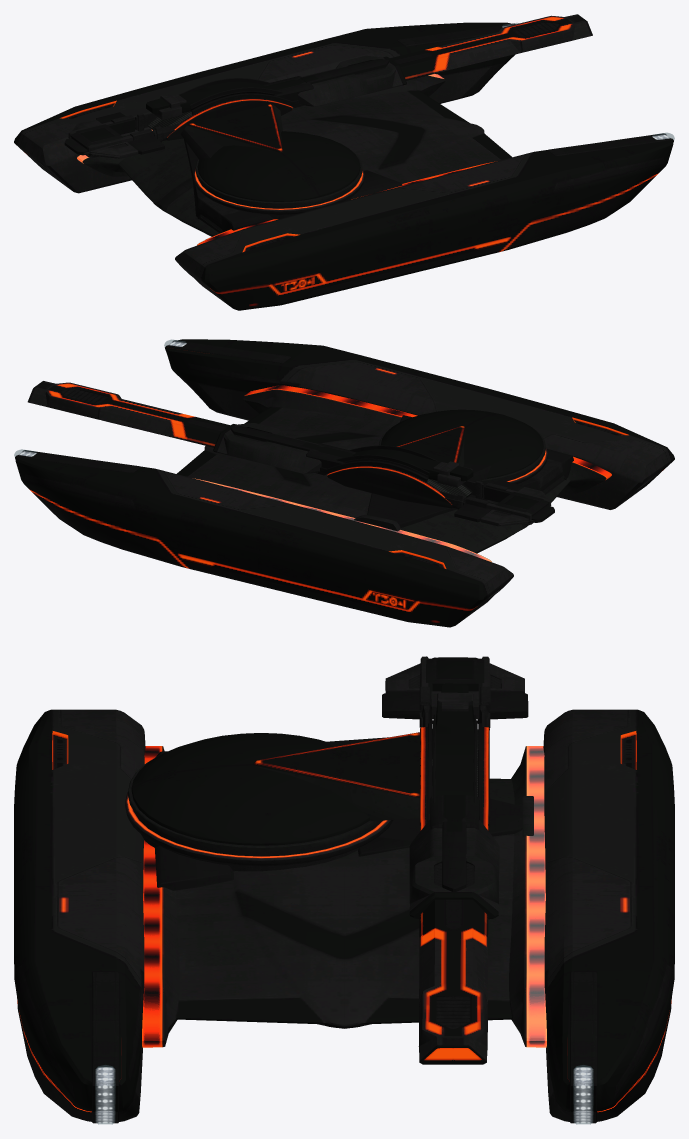
3 views of the same model, one above another, from view 1: azimuth 30°, elevation 25°; view 2: azimuth 150°, elevation 25°; view 3: azimuth 270°, elevation 25° (orthographic). The views are drawn at different scales.
Parts seen in each view (by area): view 1: Main Body, Turret Mount, Turret; view 2: Main Body, Turret Mount, Turret; view 3: Main Body, Turret Mount, Turret.
Part boxes in pixels (x1=…): Main Body: x1=14, y1=22, x2=674, y2=310; Turret Mount: x1=64, y1=98, x2=364, y2=219; Turret: x1=146, y1=14, x2=592, y2=120; Main Body: x1=14, y1=339, x2=674, y2=627; Turret Mount: x1=327, y1=409, x2=554, y2=526; Turret: x1=27, y1=381, x2=473, y2=487; Main Body: x1=14, y1=709, x2=674, y2=1124; Turret Mount: x1=125, y1=656, x2=528, y2=871; Turret: x1=409, y1=683, x2=499, y2=1064.
Bounding box in the file's own units: 8.62 × 1.72 × 6.06.
6 materials, 4 textured.
